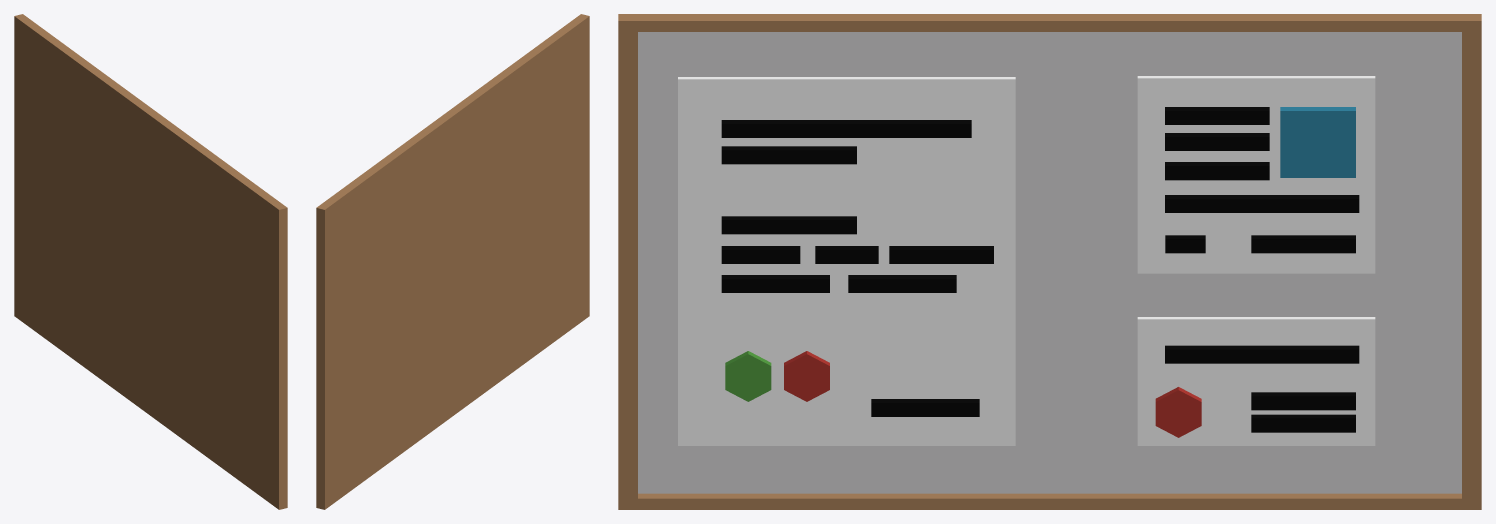
The model's file is SM_donutsBoard_02.glb.
The picture shows the model from 3 angles, left to right: view 1: azimuth 30°, elevation 25°; view 2: azimuth 150°, elevation 25°; view 3: azimuth 270°, elevation 25°; orthographic projection. The views are drawn at different scales.
Visible parts, largest first — view 1: SM_donutsBoard_02; view 2: SM_donutsBoard_02; view 3: SM_donutsBoard_02.
Boxes of the visible parts, x1,y1,x2,y2 form: SM_donutsBoard_02: (14,14,287,509); SM_donutsBoard_02: (316,14,589,509); SM_donutsBoard_02: (618,14,1481,509).
Size of the model in its own units: 0.0352 by 1 by 1.6.
1 material, 1 textured.
